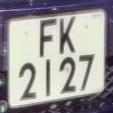1: (41, 57, 57, 100)
2: (15, 56, 42, 104), (56, 52, 79, 98)
7: (77, 49, 97, 96)
F: (34, 16, 60, 63)
K: (58, 14, 79, 61)
